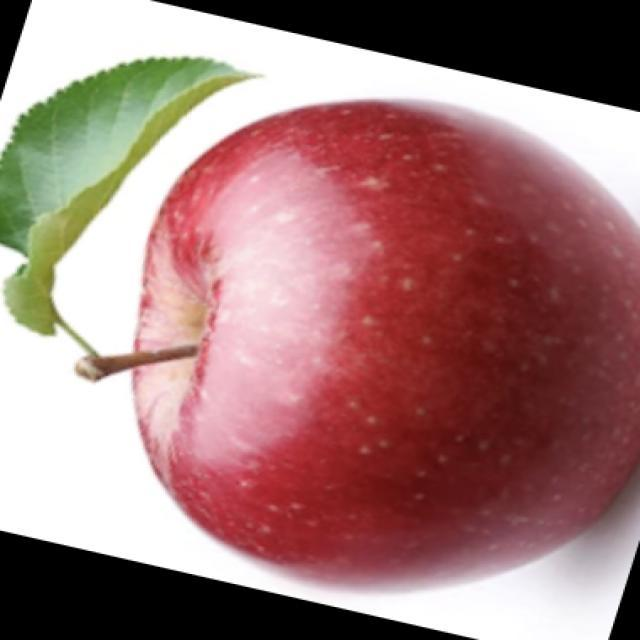Fresh Apple: (158, 113, 640, 618)
